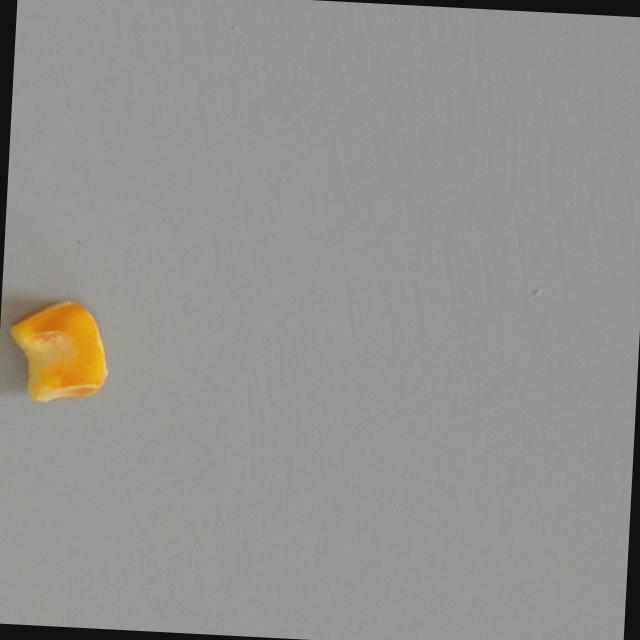dañado: (2, 286, 113, 419)
